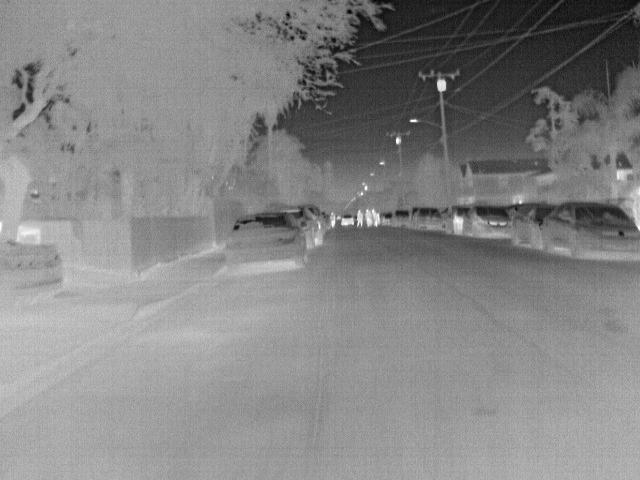car: (542, 200, 640, 260), (223, 214, 307, 276), (2, 236, 64, 306), (509, 204, 557, 246), (279, 207, 323, 244), (464, 205, 514, 237), (443, 206, 470, 236), (301, 206, 328, 236), (414, 207, 444, 230), (391, 209, 414, 228), (339, 214, 356, 226), (383, 212, 395, 226)
person: (369, 207, 380, 228), (363, 209, 373, 229), (329, 211, 337, 230), (357, 209, 364, 228)
